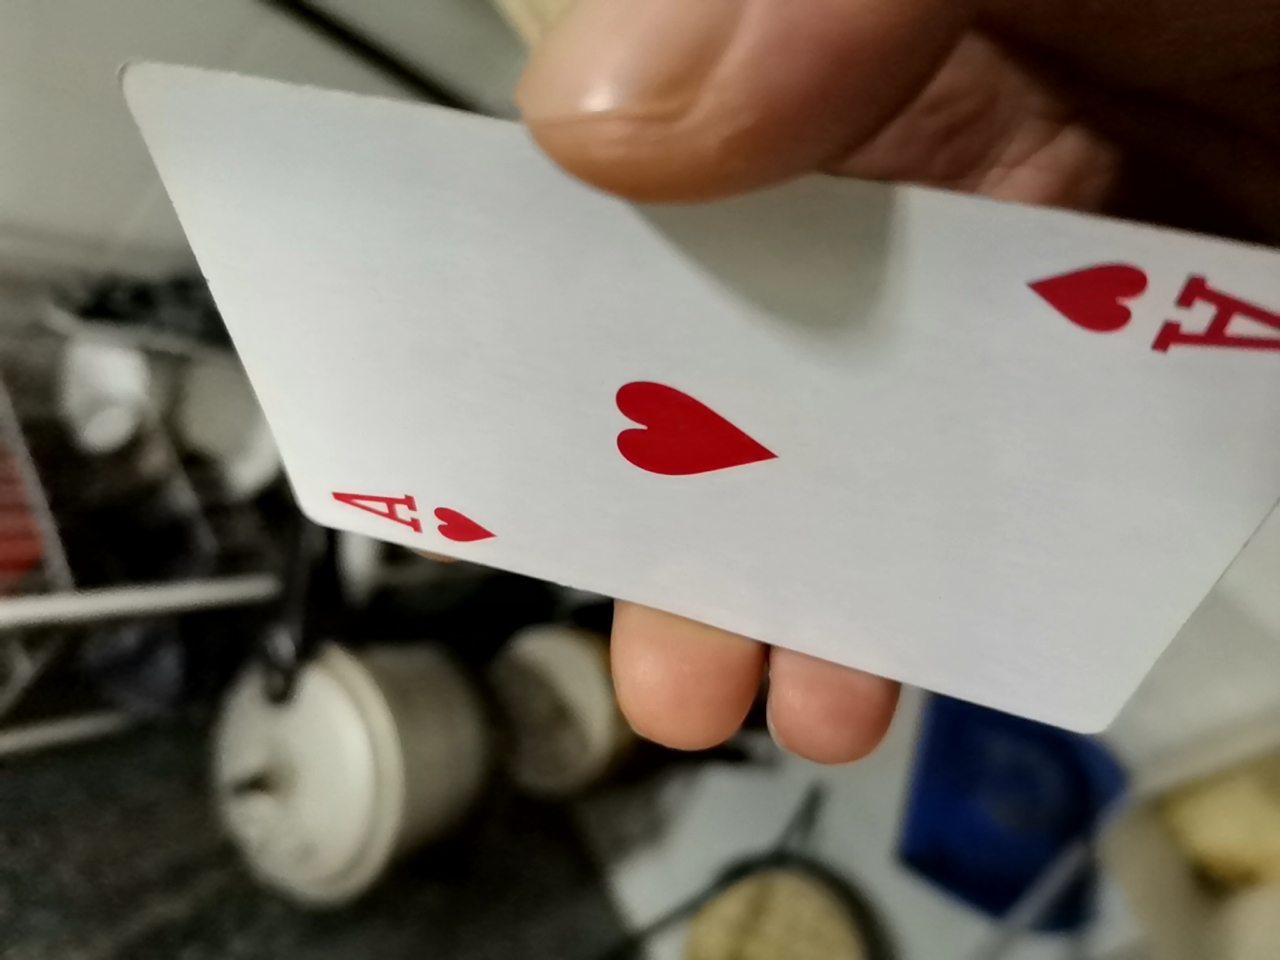hx a: (177, 86, 1266, 803)
